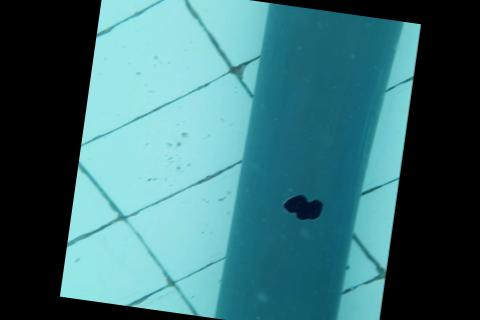kebocoran: (277, 189, 327, 224)
